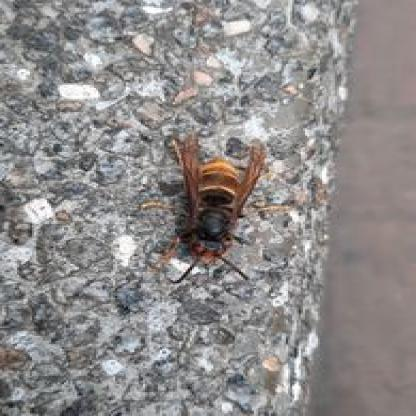Asian Hornet: (152, 129, 276, 288)
